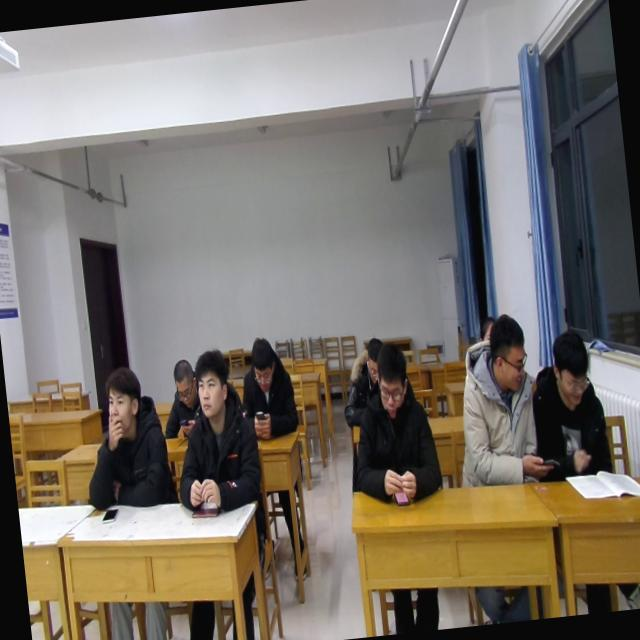bow: (234, 330, 302, 446), (335, 334, 392, 430)
down: (543, 322, 594, 410), (370, 338, 412, 422), (243, 331, 278, 395), (168, 355, 197, 409), (359, 332, 386, 384)
lookup: (188, 339, 237, 428), (98, 360, 147, 440)
sit: (165, 343, 268, 519), (446, 312, 546, 491), (342, 334, 444, 509), (75, 361, 177, 516), (524, 324, 616, 482), (154, 354, 203, 438)
